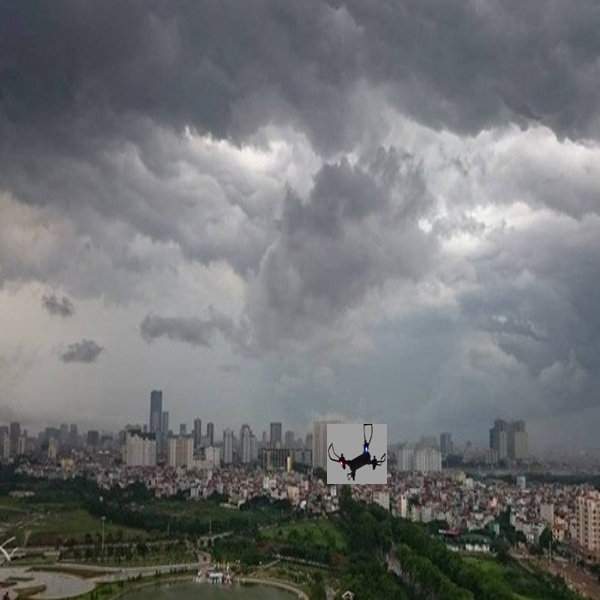drone: (327, 424, 390, 482)
